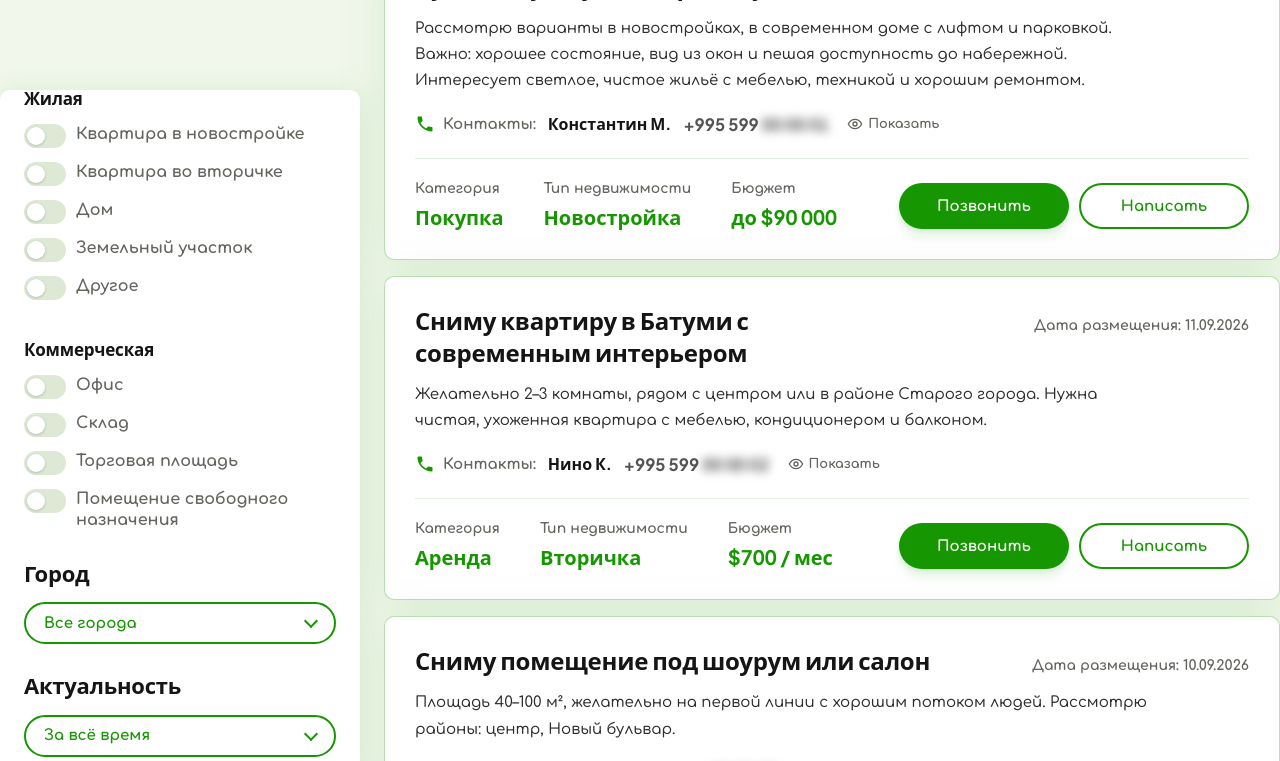
it: Buyer & Tenant Requests Board Acceptance (MKT-SCR-016) › filters requests by city and search query
(page scrolled)
Step 1. Select "Тбилиси" in the dropdown labelled "Город" → (180, 623), box [24,602,336,644]
(page scrolled)
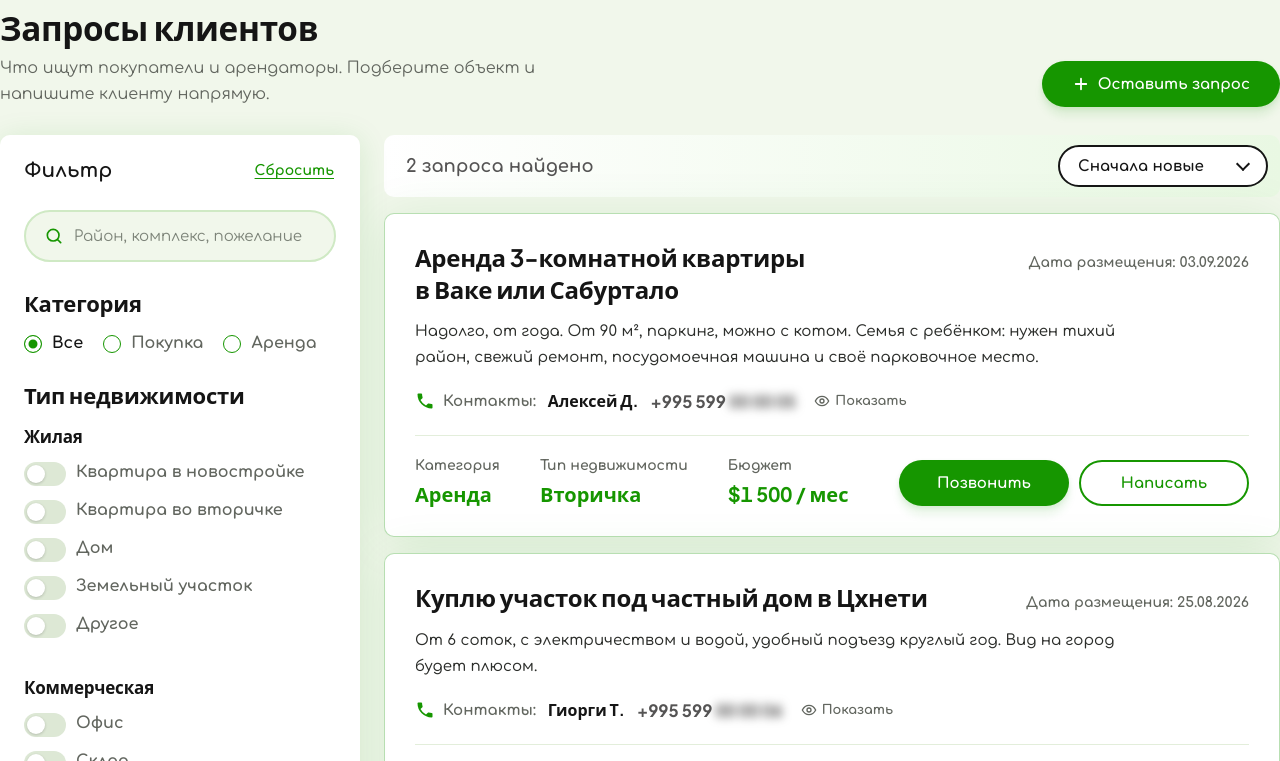
Expected: the text "Алексей Д." is shown, [548,390,638,412]
Step 2. Type "Ваке" into the search field named "Поиск по запросам" → (195, 236), box [74,228,316,245]
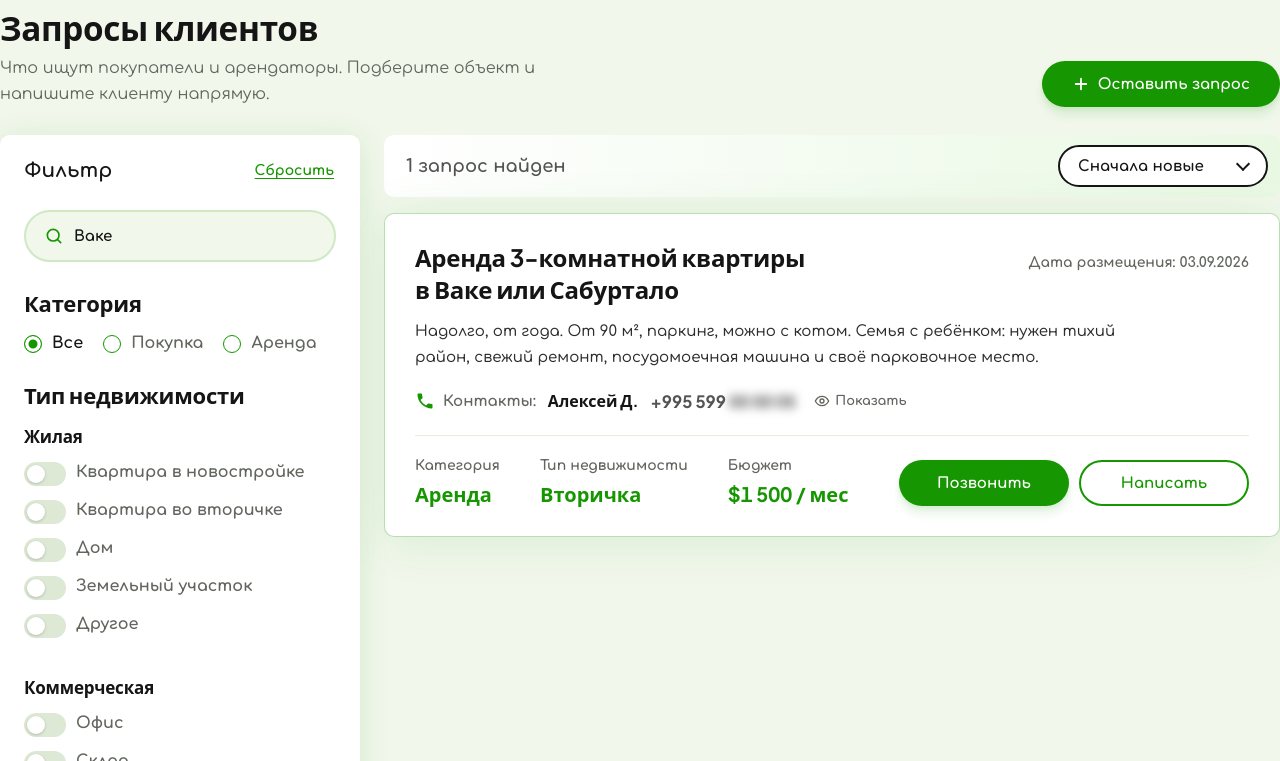
Expected: the heading "Аренда 3-комнатной квартиры в Ваке или Сабуртало" is shown, [415,242,805,304]
Expected: the text "Гиорги Т." is gone
